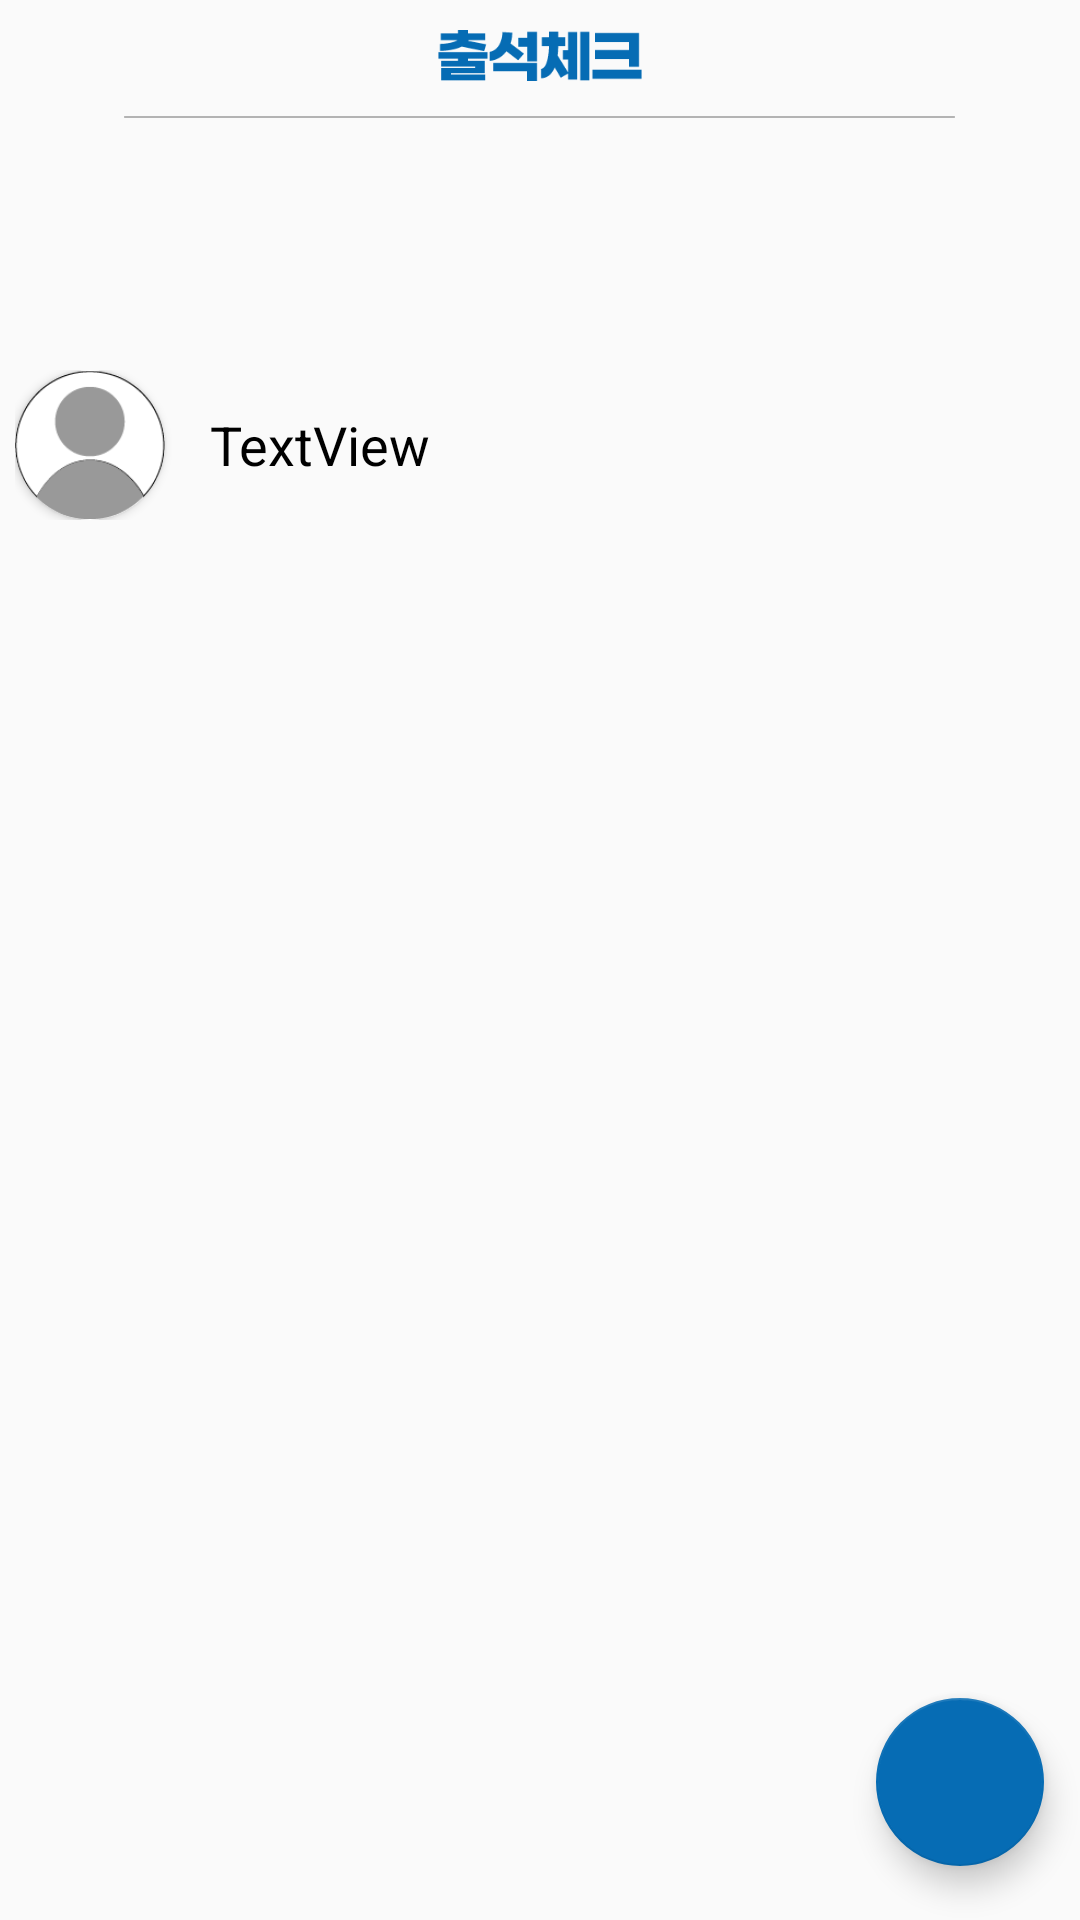

Icon click points for this 1080*1920 phone screenshot, format (x=x, y=y):
profileimage: (x=90, y=445)
